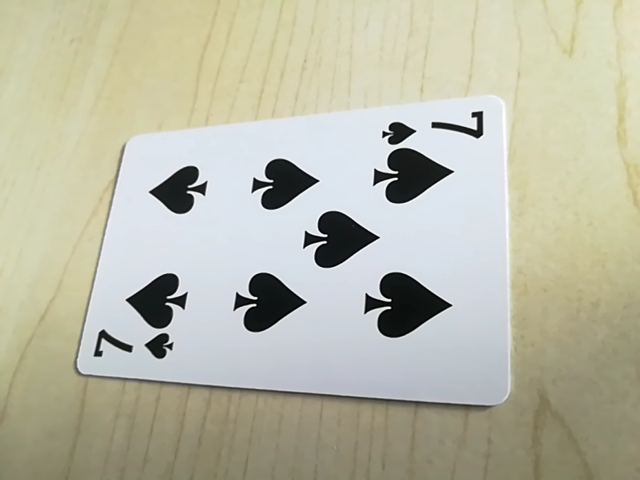ht 7: (374, 106, 489, 146), (84, 328, 180, 369)
